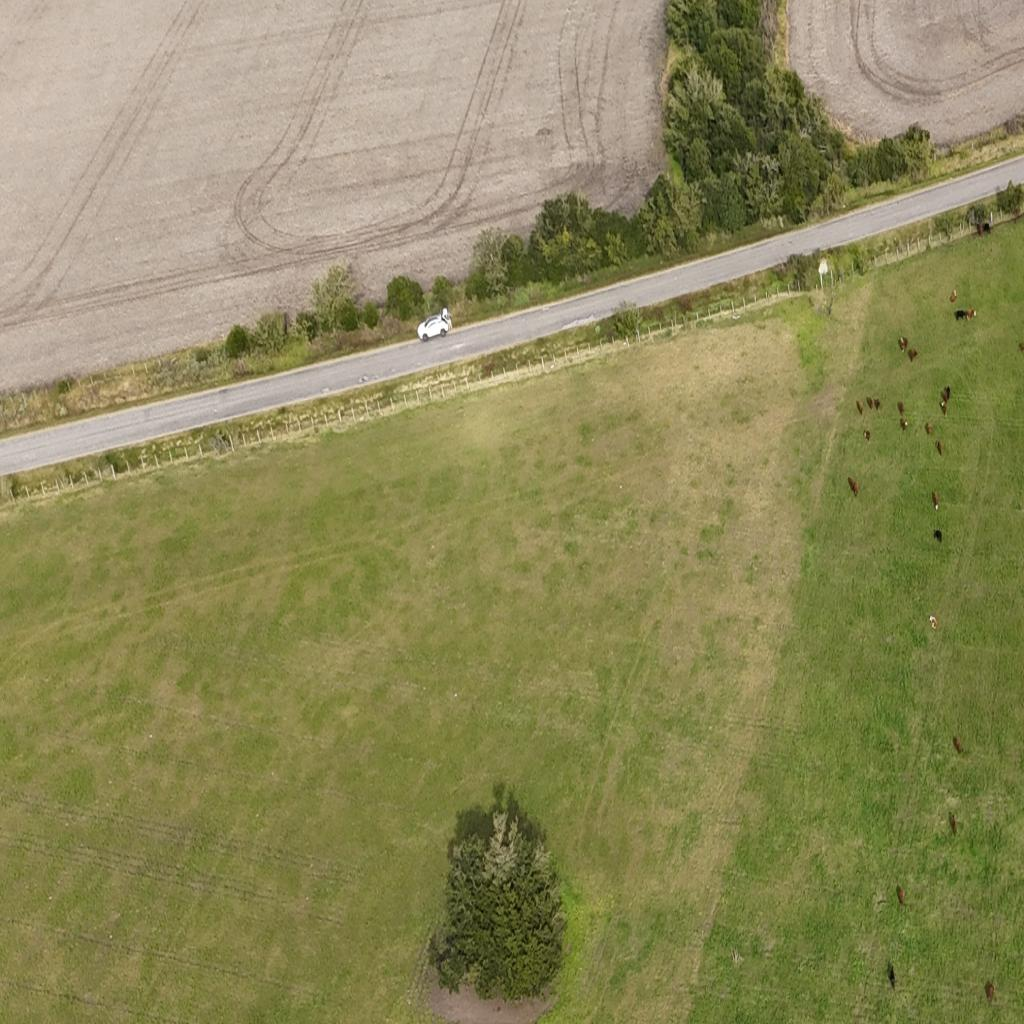cow: (848, 476, 858, 498), (986, 980, 995, 1004), (897, 886, 906, 907), (950, 812, 958, 835), (898, 337, 908, 354), (966, 308, 977, 322), (890, 964, 896, 989), (940, 400, 948, 418), (954, 736, 962, 754), (908, 348, 918, 362), (932, 490, 939, 510), (928, 615, 938, 629), (856, 400, 864, 416), (982, 222, 991, 236), (925, 422, 933, 437), (897, 401, 905, 416), (934, 528, 942, 543), (900, 417, 908, 431), (936, 440, 943, 456), (976, 223, 984, 237), (874, 397, 881, 412), (866, 397, 874, 410), (950, 289, 957, 303), (864, 428, 870, 441), (1019, 208, 1024, 222), (1021, 342, 1024, 352)
